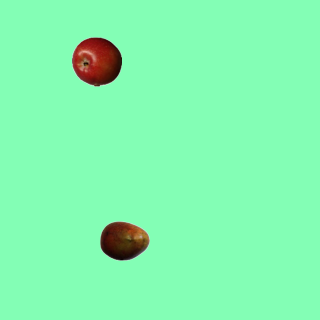Apple Braeburn: (71, 36, 121, 86)
Mango Red: (99, 215, 149, 265)
